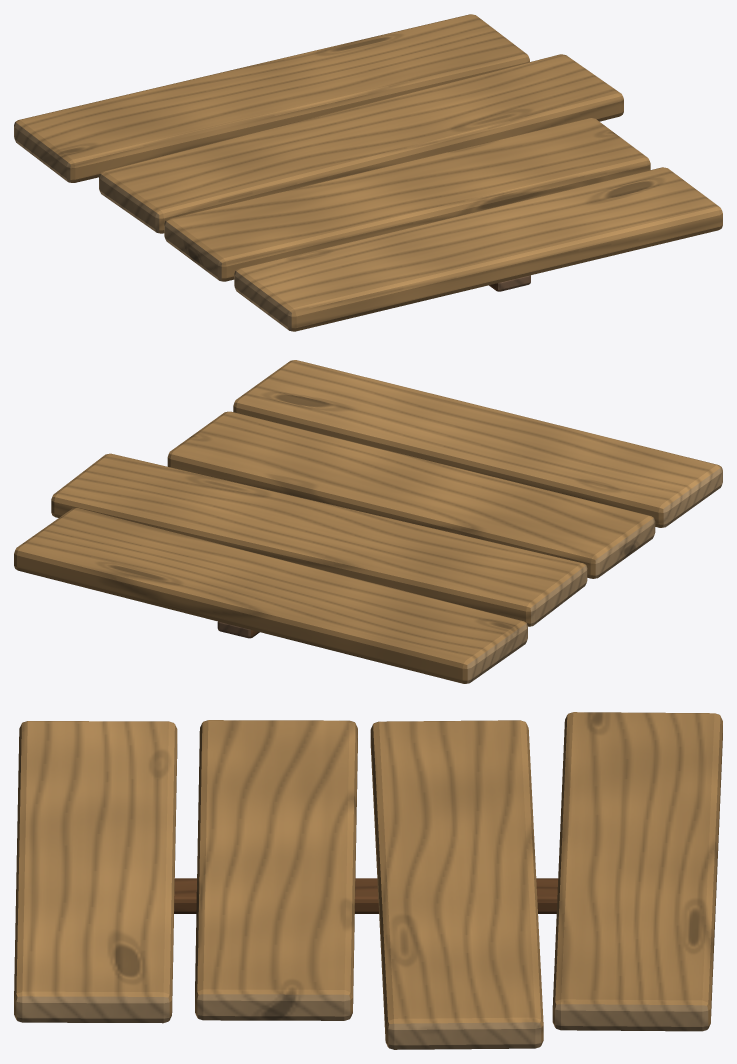
File: plank_path.glb
3 views of the same model, one above another, from view 1: azimuth 30°, elevation 25°; view 2: azimuth 150°, elevation 25°; view 3: azimuth 270°, elevation 25° (orthographic). The views are drawn at different scales.
Parts seen in each view (by area): view 1: PlankPath; view 2: PlankPath; view 3: PlankPath.
Boxes of the visible parts, x1,y1,x2,y2 form: PlankPath: (14, 14, 722, 331); PlankPath: (14, 360, 722, 683); PlankPath: (14, 712, 722, 1049).
Bounding box in the file's own units: 0.9855 × 0.063 × 0.9416.
Materials: 1 (1 with a texture image).
